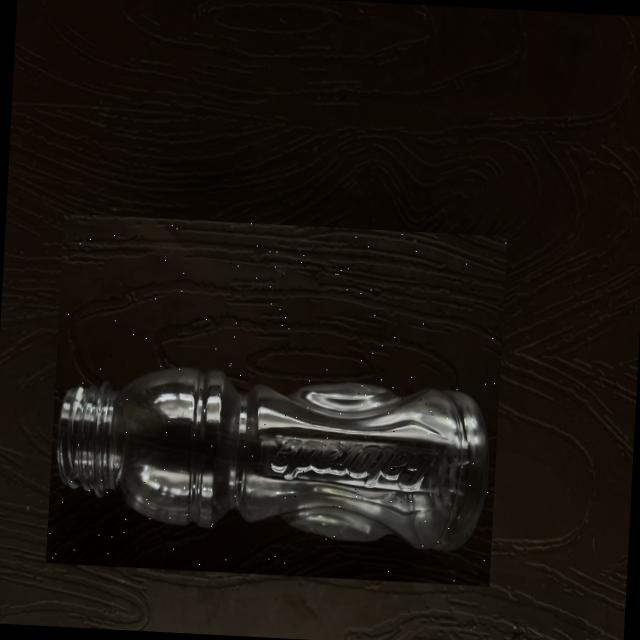PET_ClearBottle: (44, 214, 507, 589)
